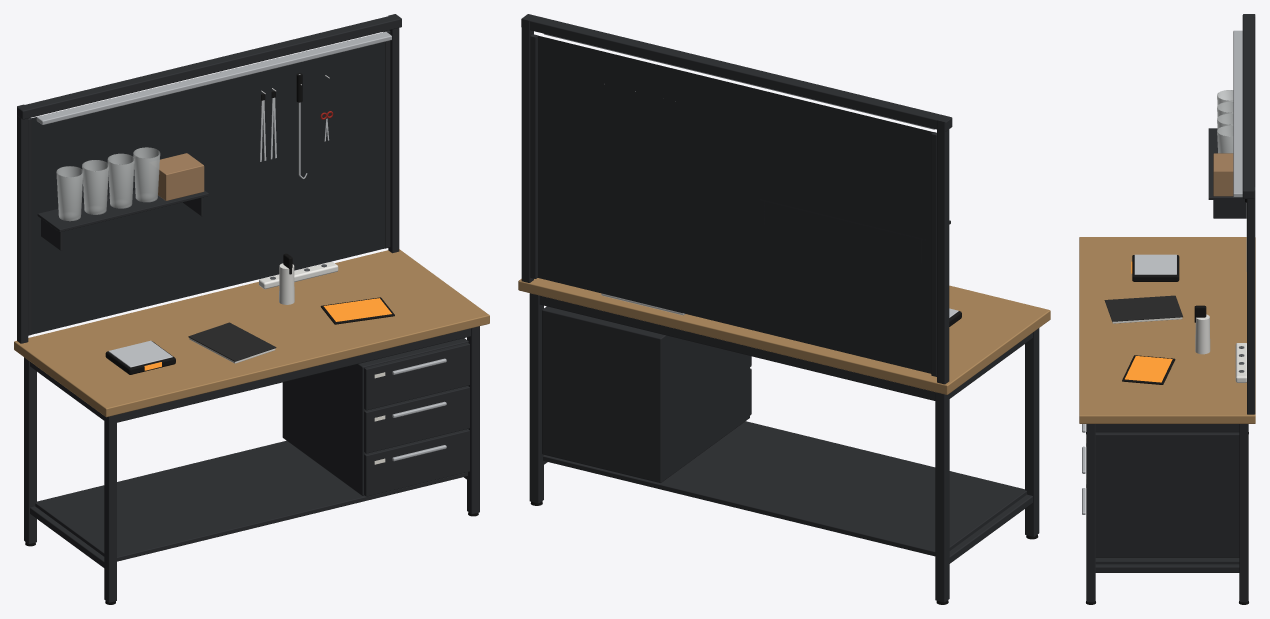
The model's file is workbench.glb.
3 renders of one model, left to right at view 1: azimuth 30°, elevation 25°; view 2: azimuth 150°, elevation 25°; view 3: azimuth 270°, elevation 25°, orthographic. The views are drawn at different scales.
Visible parts, largest first — view 1: workbench__steel_graphite, workbench__pegboard, workbench__oak, workbench__pp_translucent__noshadow, workbench__aluminium, workbench__stainless, workbench__cardboard, workbench__fabric_dark, workbench__plastic_black, workbench__plastic_white, workbench__display; view 2: workbench__pegboard, workbench__steel_graphite, workbench__oak; view 3: workbench__steel_graphite, workbench__oak, workbench__aluminium, workbench__fabric_dark, workbench__pp_translucent__noshadow, workbench__plastic_white, workbench__display, workbench__stainless, workbench__plastic_black, workbench__cardboard.
Part boxes in pixels (left/top/right/bottom): workbench__steel_graphite: left=17, top=14, right=479, bottom=602; workbench__pegboard: left=31, top=41, right=384, bottom=334; workbench__oak: left=14, top=249, right=489, bottom=417; workbench__pp_translucent__noshadow: left=56, top=147, right=160, bottom=221; workbench__aluminium: left=36, top=31, right=446, bottom=461; workbench__stainless: left=108, top=74, right=329, bottom=367; workbench__cardboard: left=158, top=153, right=204, bottom=200; workbench__fabric_dark: left=188, top=322, right=276, bottom=361; workbench__plastic_black: left=105, top=73, right=394, bottom=374; workbench__plastic_white: left=259, top=262, right=338, bottom=304; workbench__display: left=144, top=298, right=391, bottom=370; workbench__pegboard: left=538, top=35, right=933, bottom=373; workbench__steel_graphite: left=521, top=14, right=1039, bottom=602; workbench__oak: left=518, top=278, right=1050, bottom=394; workbench__steel_graphite: left=1086, top=14, right=1255, bottom=602; workbench__oak: left=1079, top=237, right=1255, bottom=423; workbench__aluminium: left=1082, top=30, right=1242, bottom=514; workbench__fabric_dark: left=1104, top=295, right=1182, bottom=321; workbench__pp_translucent__noshadow: left=1217, top=90, right=1233, bottom=153; workbench__plastic_white: left=1195, top=314, right=1246, bottom=382; workbench__display: left=1125, top=261, right=1172, bottom=382; workbench__stainless: left=1134, top=203, right=1246, bottom=274; workbench__plastic_black: left=1122, top=199, right=1246, bottom=384; workbench__cardboard: left=1213, top=153, right=1233, bottom=196.
Size of the model in its own units: 1.8 by 1.95 by 0.75.
